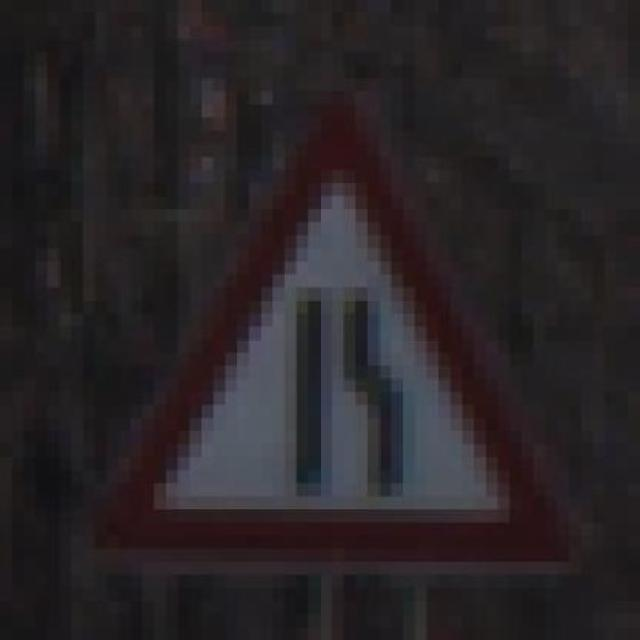-Road narrows on right: (71, 78, 617, 588)
